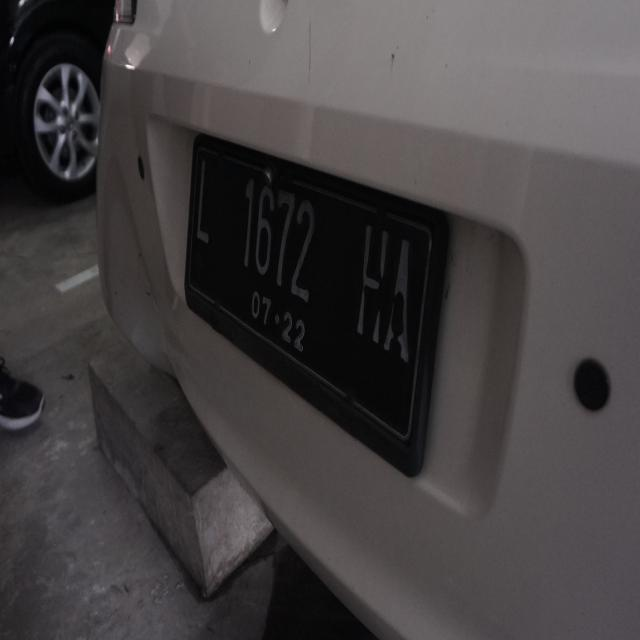1: (230, 168, 260, 292)
2: (284, 182, 326, 322)
6: (247, 173, 279, 287)
7: (268, 177, 300, 310)
A: (376, 220, 421, 366)
H: (352, 202, 394, 354)
L: (183, 143, 220, 260)
